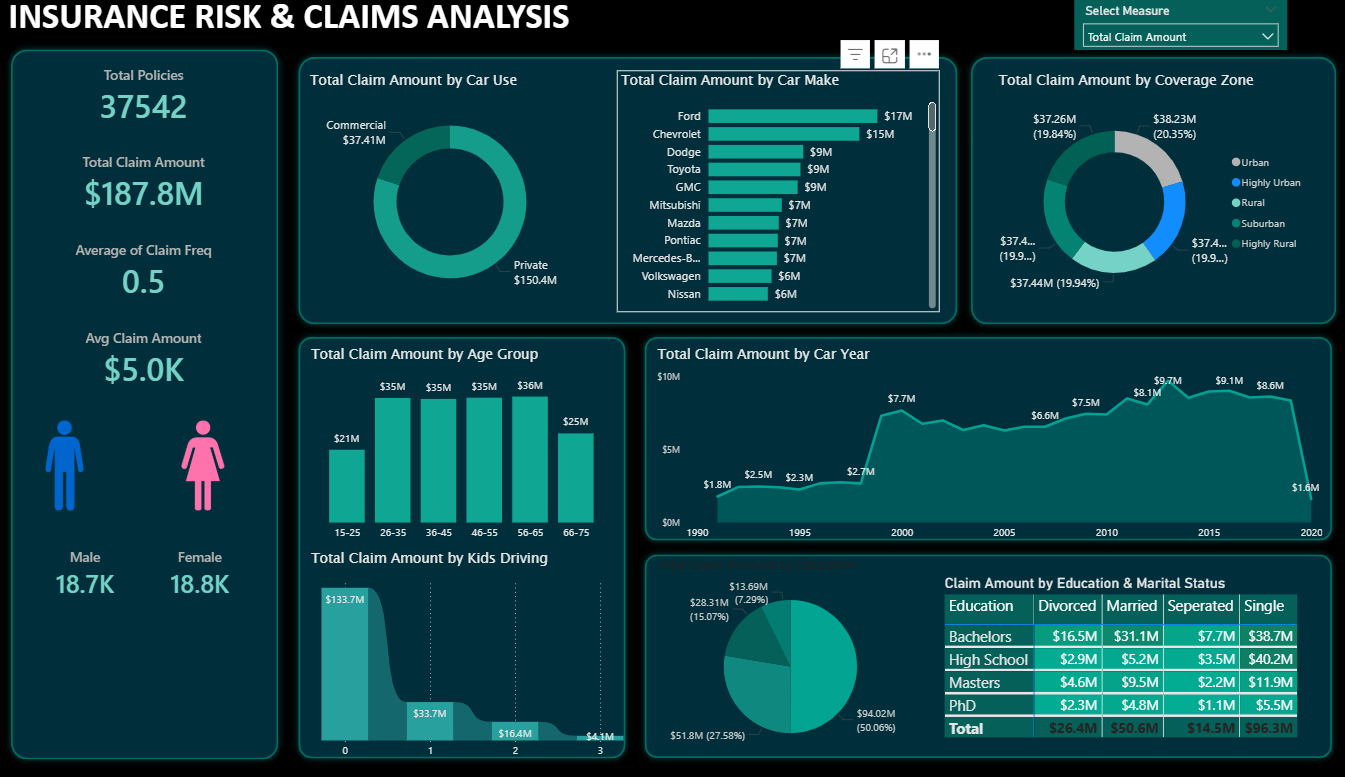

The dashboard page shown, as its layout file describes it:
{"tool":"powerbi","page":{"name":"Page 1","canvas":[1600,950],"ordinal":0},"visuals":[{"type":"textbox","box":[13.3,0,676.7,63.3],"z":0},{"type":"shape","box":[13.3,63.3,330,850],"z":1000},{"type":"cardVisual","fields":{"Data":["insurance_data_car.Total Policies","insurance_data_car.Total Claim Amount","Avg(insurance_data_car.Claim Freq)","insurance_data_car.Avg Claim Amount"]},"box":[26.7,71.7,301.7,403.3],"z":2000},{"type":"cardVisual","fields":{"Data":["insurance_data_car.Male Count","insurance_data_car.Female Count"]},"box":[45,631.7,260,110],"z":3000},{"type":"image","box":[26.7,501.7,115,115],"z":4000},{"type":"image","box":[190,501.7,115,115],"z":5000},{"type":"slicer","fields":{"Values":["Select Measure.Select Measure"]},"box":[1270,11.7,250,60],"z":6000},{"type":"shape","box":[351.7,71.7,790,330],"z":7000},{"type":"donutChart","fields":{"Y":["insurance_data_car.Total Claim Amount"],"Category":["insurance_data_car.Car Use"]},"box":[366.7,95,340,285],"z":8000},{"type":"clusteredBarChart","fields":{"Y":["insurance_data_car.Total Claim Amount"],"Category":["insurance_data_car.Car Make"]},"box":[733.3,95,380,285],"z":9000},{"type":"shape","box":[1141.7,71.7,445,330],"z":10000},{"type":"donutChart","fields":{"Y":["insurance_data_car.Total Claim Amount"],"Category":["insurance_data_car.Coverage Zone"]},"box":[1176.7,95,375,285],"z":11000},{"type":"shape","box":[351.7,401.7,400,511],"z":12000},{"type":"clusteredColumnChart","fields":{"Y":["insurance_data_car.Total Claim Amount"],"Category":["insurance_data_car.Age Group"]},"box":[368.3,416.7,365,240],"z":13000},{"type":"ribbonChart","fields":{"Y":["insurance_data_car.Total Claim Amount"],"Category":["insurance_data_car.Kids Driving"]},"box":[368.3,656.7,390,256.7],"z":14000},{"type":"shape","box":[758.3,401.7,823.3,255],"z":15000},{"type":"areaChart","fields":{"Y":["insurance_data_car.Total Claim Amount"],"Category":["insurance_data_car.Car Year"]},"box":[775,416.7,791.7,240],"z":16000},{"type":"shape","box":[758.3,656.7,823.3,255],"z":17000},{"type":"pieChart","fields":{"Y":["insurance_data_car.Total Claim Amount"],"Category":["insurance_data_car.Education"]},"box":[775,663.3,323.3,243.3],"z":18000},{"type":"pivotTable","title":"Claim Amount by Education & Marital Status","fields":{"Rows":["insurance_data_car.Education"],"Columns":["insurance_data_car.Marital Status"],"Values":["insurance_data_car.Total Claim Amount"]},"box":[1113.3,686.7,486.7,250],"z":19000}]}

Visuals, with their boxes in screenshot pixels (x1, y1, x2, y2), scaled from the page's 1600x950 canvas onto the 1345x777 screenshot:
textbox: region(11, 0, 580, 52)
shape: region(11, 52, 289, 747)
cardVisual - insurance_data_car.Total Policies x insurance_data_car.Total Claim Amount: region(22, 59, 276, 388)
cardVisual - insurance_data_car.Male Count x insurance_data_car.Female Count: region(38, 517, 256, 607)
image: region(22, 410, 119, 504)
image: region(160, 410, 256, 504)
slicer - Select Measure.Select Measure: region(1068, 10, 1278, 59)
shape: region(296, 59, 960, 329)
donutChart - insurance_data_car.Total Claim Amount x insurance_data_car.Car Use: region(308, 78, 594, 311)
clusteredBarChart - insurance_data_car.Total Claim Amount x insurance_data_car.Car Make: region(616, 78, 936, 311)
shape: region(960, 59, 1334, 329)
donutChart - insurance_data_car.Total Claim Amount x insurance_data_car.Coverage Zone: region(989, 78, 1304, 311)
shape: region(296, 329, 632, 746)
clusteredColumnChart - insurance_data_car.Total Claim Amount x insurance_data_car.Age Group: region(310, 341, 616, 537)
ribbonChart - insurance_data_car.Total Claim Amount x insurance_data_car.Kids Driving: region(310, 537, 637, 747)
shape: region(637, 329, 1330, 537)
areaChart - insurance_data_car.Total Claim Amount x insurance_data_car.Car Year: region(651, 341, 1317, 537)
shape: region(637, 537, 1330, 746)
pieChart - insurance_data_car.Total Claim Amount x insurance_data_car.Education: region(651, 543, 923, 742)
"Claim Amount by Education & Marital Status" pivotTable: region(936, 562, 1344, 766)
